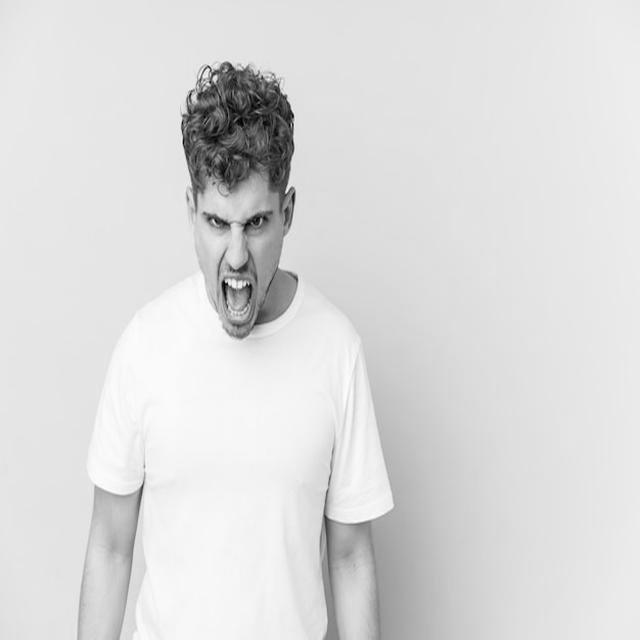Angry: (196, 170, 285, 338)
